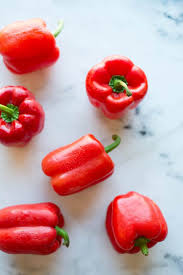bell pepper: (1, 197, 73, 266), (39, 129, 119, 190), (103, 192, 169, 261), (82, 52, 148, 116), (1, 19, 64, 82), (1, 87, 46, 148)
